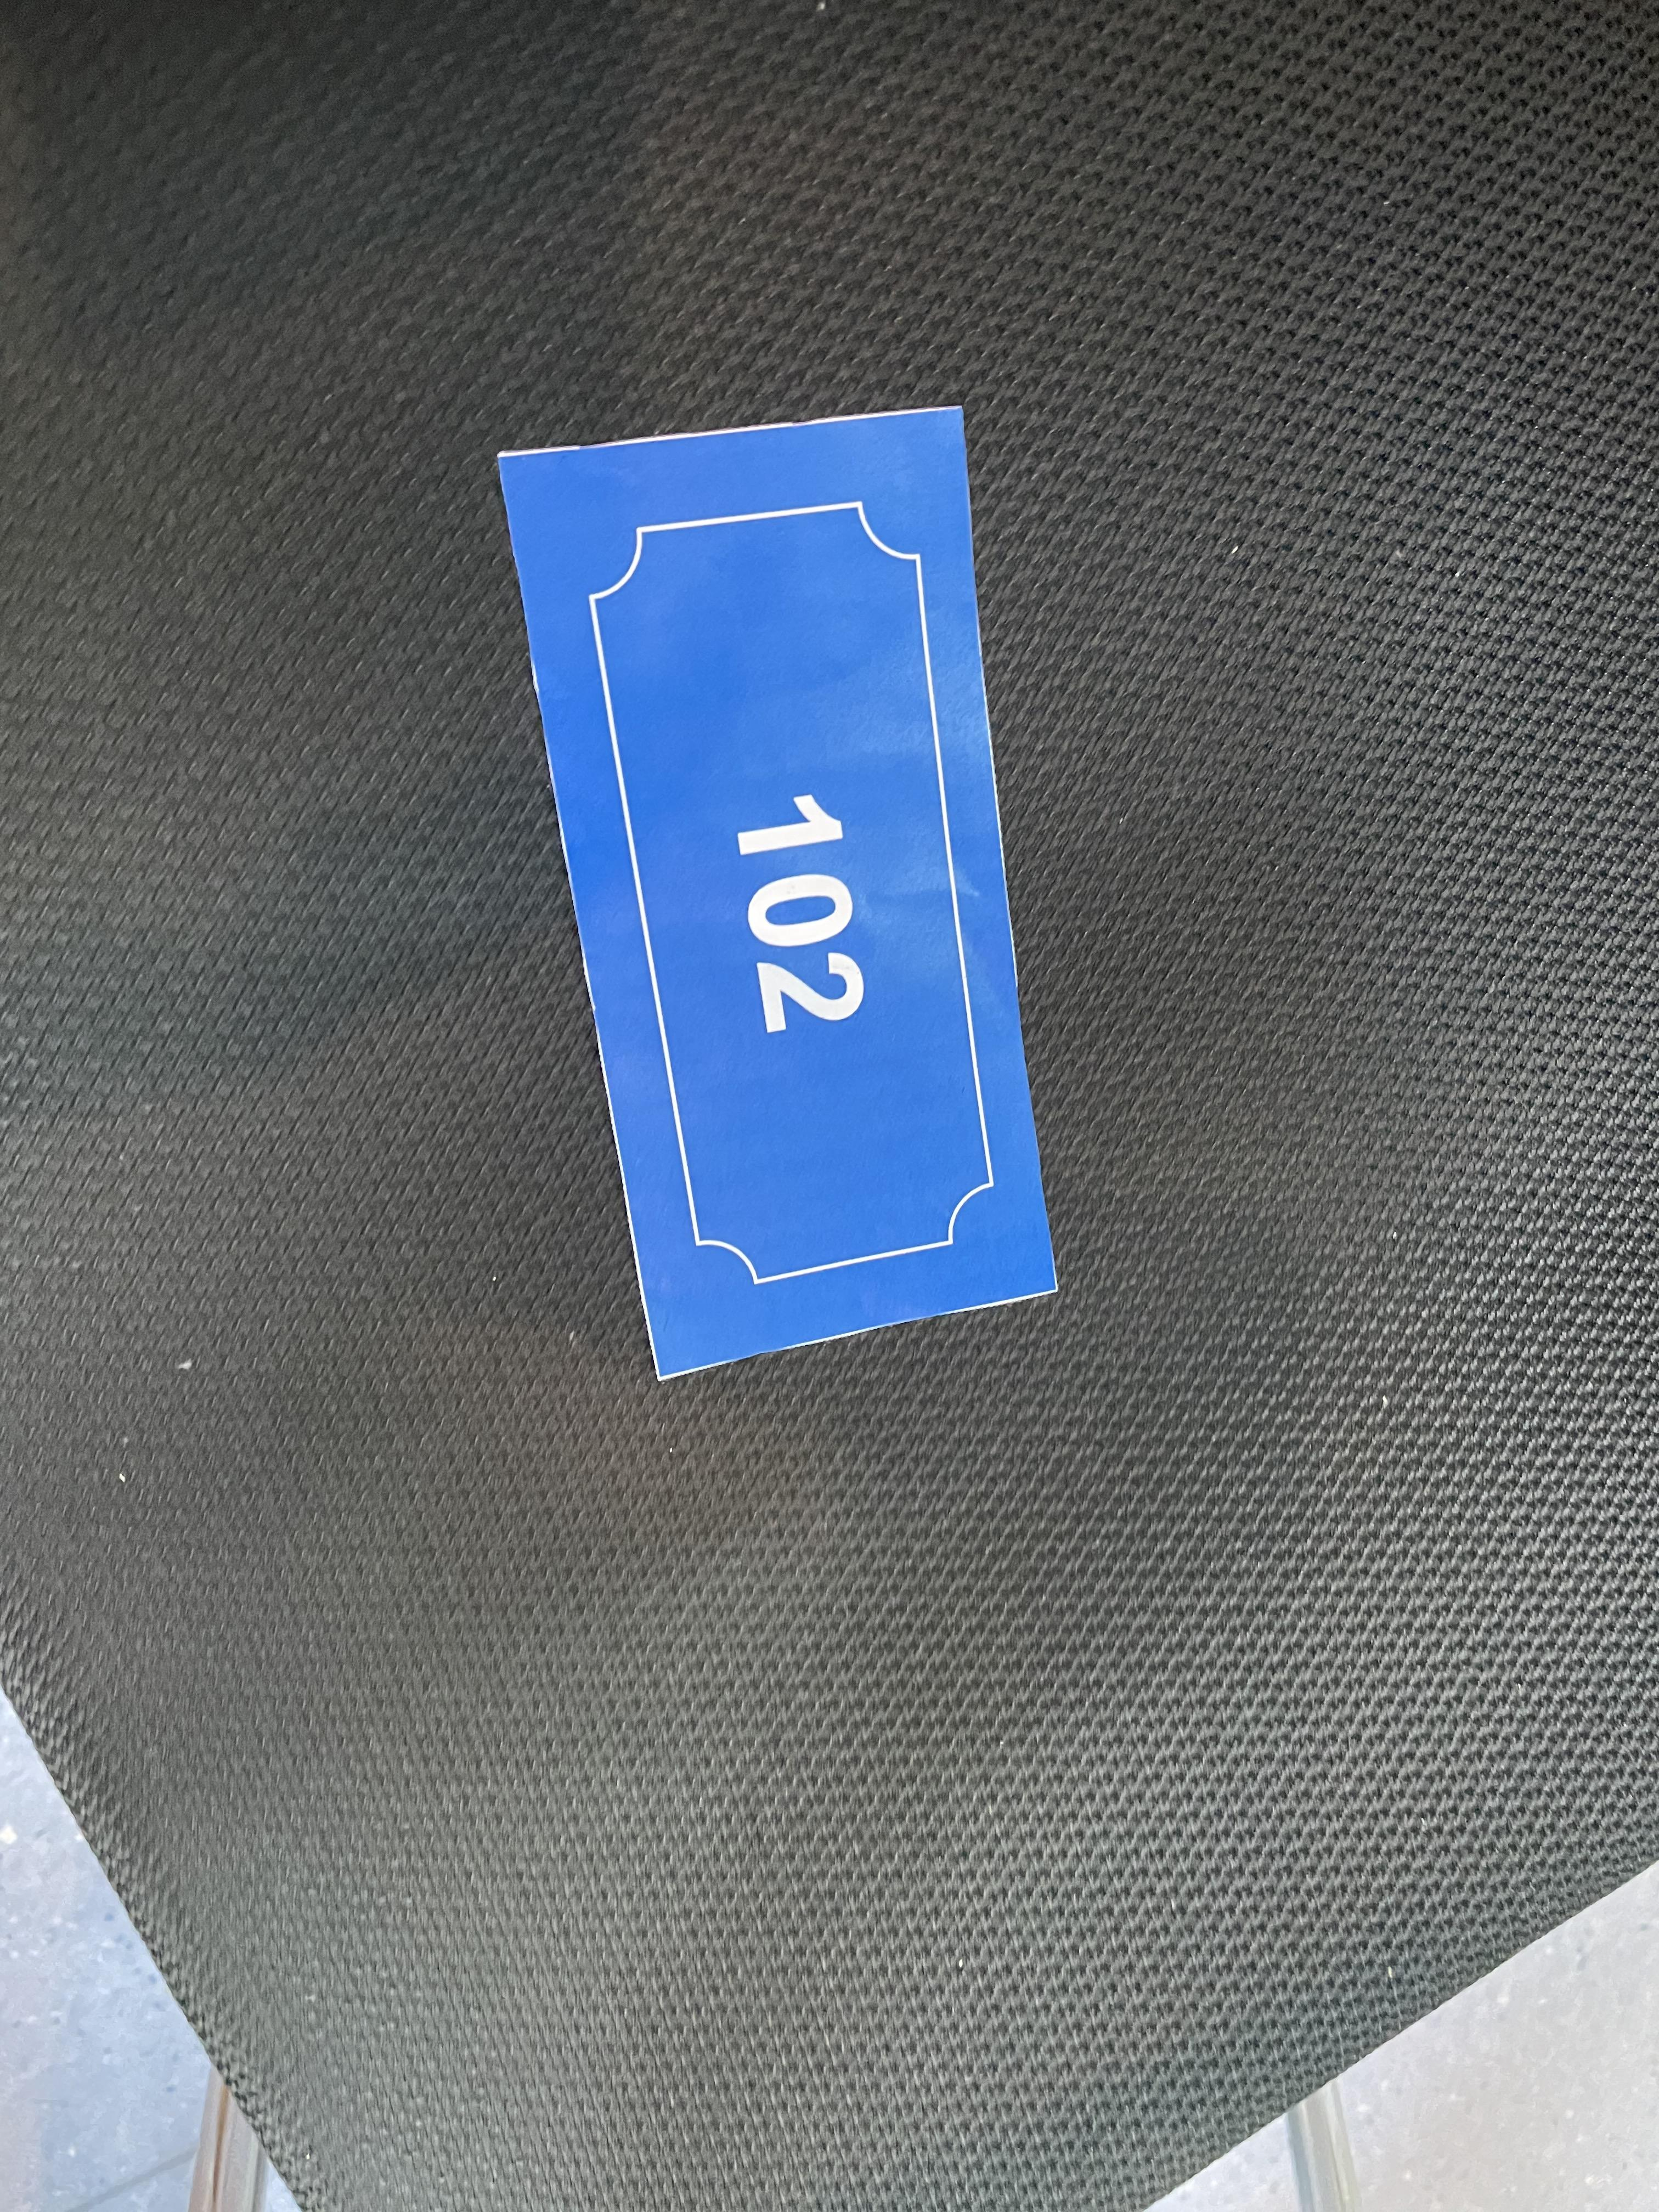Card: (451, 352, 1126, 1398)
